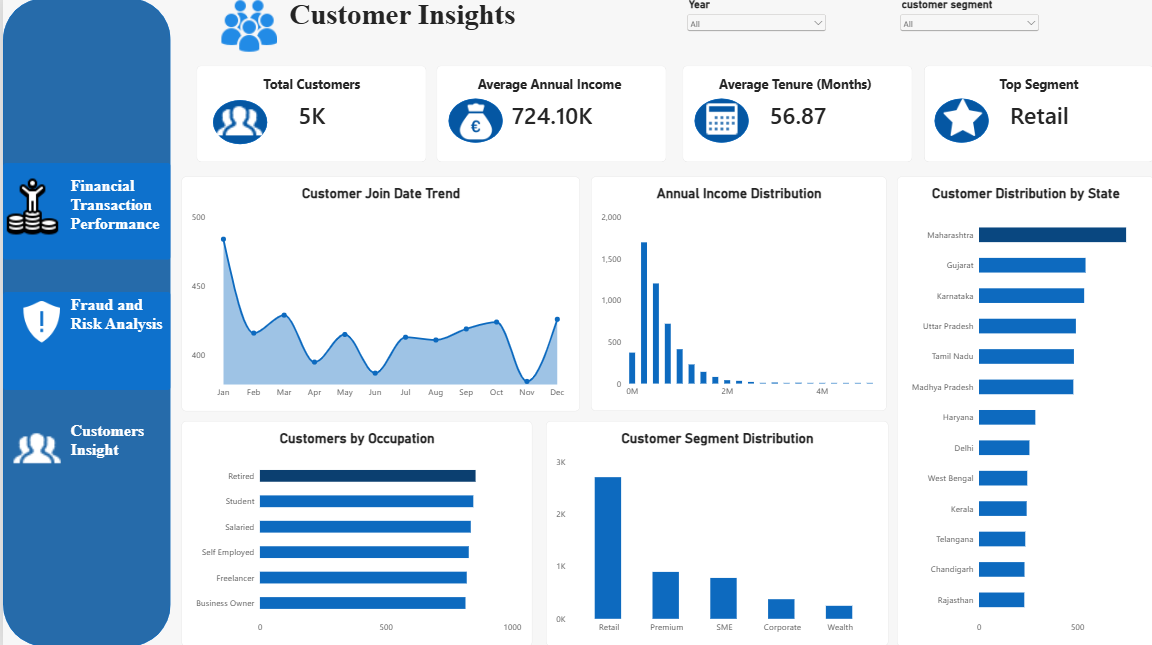

The dashboard page shown, as its layout file describes it:
{"tool":"powerbi","page":{"name":"Customer Insight","canvas":[1920,1080],"ordinal":2},"visuals":[{"type":"shape","box":[0,0,279.3,1080.7],"z":0},{"type":"cardVisual","fields":{"Data":["finance customer_cleaned.Total Customers"]},"box":[321.4,111.9,383.3,161.9],"z":1000},{"type":"cardVisual","fields":{"Data":["finance customer_cleaned.Most Common Segment"]},"box":[1535.7,111.9,383.3,161.9],"z":2000},{"type":"cardVisual","fields":{"Data":["finance customer_cleaned.Average Tenure"]},"box":[1133.3,111.9,383.3,161.9],"z":3000},{"type":"cardVisual","fields":{"Data":["finance customer_cleaned.Average Annual Income"]},"box":[721.4,111.9,383.3,161.9],"z":4000},{"type":"clusteredColumnChart","title":"Annual Income Distribution","fields":{"Category":["finance customer_cleaned.annual_income (bins)"],"Y":["Count(finance customer_cleaned.customer_id)"]},"box":[981,297.6,492.9,390.5],"z":5000},{"type":"clusteredBarChart","title":"Customers by Occupation","fields":{"Category":["finance customer_cleaned.occupation"],"Y":["finance customer_cleaned.Total Customers"]},"box":[296.5,704.7,584.4,376],"z":6000},{"type":"lineChart","title":"Customer Join Date Trend","fields":{"Category":["finance customer_cleaned.Month Short"],"Y":["finance customer_cleaned.Total Customers"]},"box":[296.5,298.7,663.9,391],"z":7000},{"type":"clusteredBarChart","title":"Customer Distribution by State","fields":{"Category":["finance customer_cleaned.state"],"Y":["finance customer_cleaned.Total Customers"]},"box":[1490.5,297.6,428.6,783.3],"z":8000},{"type":"shape","box":[350,169,90.5,73.8],"z":9000},{"type":"shape","box":[1552.3,168.2,90.5,73.8],"z":10000},{"type":"shape","box":[1152.3,168.2,90.5,73.8],"z":11000},{"type":"shape","box":[743.2,168.2,90.5,73.8],"z":12000},{"type":"clusteredColumnChart","title":"Customer Segment Distribution","fields":{"Category":["finance customer_cleaned.customer_segment"],"Y":["finance customer_cleaned.Total Customers"]},"box":[904.5,704.5,570.5,375],"z":13000},{"type":"textbox","box":[478.4,0,805.3,87.6],"z":14000},{"type":"slicer","fields":{"Values":["finance customer_cleaned.join_date.Variation.Date Hierarchy.Year"]},"box":[1134.5,0,241.6,87.6],"z":15000},{"type":"slicer","fields":{"Values":["finance customer_cleaned.customer_segment"]},"box":[1489.8,0,241.6,87.6],"z":16000},{"type":"textbox","box":[350.5,127.9,329.2,40.3],"z":17000},{"type":"textbox","box":[743.7,127.9,336.3,40.3],"z":18000},{"type":"textbox","box":[1153.4,127.9,336.3,40.3],"z":19000},{"type":"textbox","box":[1551.3,127.9,348.2,40.3],"z":20000},{"type":"actionButton","box":[0,274.4,279.3,161.1],"z":21000},{"type":"actionButton","box":[0,698.3,279.3,141.8],"z":22000},{"type":"actionButton","box":[0,489.9,279.3,163.3],"z":23000},{"type":"textbox","box":[112.1,298.2,167,100.2],"z":24000},{"type":"textbox","box":[112.1,493.9,167,78.7],"z":25000},{"type":"textbox","box":[112.1,703.8,167,88.3],"z":26000},{"type":"image","box":[338.8,0,140.8,93.1],"z":26001},{"type":"image","box":[348.3,164.6,93.1,76.3],"z":26002},{"type":"image","box":[744.4,169.4,88.3,71.6],"z":26003},{"type":"image","box":[1161.9,159.9,71.6,83.5],"z":26004},{"type":"image","box":[1538.9,164.6,119.3,69.2],"z":26005},{"type":"image","box":[16.7,706.2,78.7,88.3],"z":26006},{"type":"image","box":[2.4,298.2,93.1,100.2],"z":26010},{"type":"image","box":[21.5,505.8,83.5,69.2],"z":26011}]}

Visuals, with their boxes on the page's 1920x1080 design canvas (x1, y1, x2, y2). These are canvas units, not pixel positions in the 1152x645 screenshot, which may show the page scaled, cropped or inside an application window:
shape: bbox=(0, 0, 279, 1081)
cardVisual - finance customer_cleaned.Total Customers: bbox=(321, 112, 705, 274)
cardVisual - finance customer_cleaned.Most Common Segment: bbox=(1536, 112, 1919, 274)
cardVisual - finance customer_cleaned.Average Tenure: bbox=(1133, 112, 1517, 274)
cardVisual - finance customer_cleaned.Average Annual Income: bbox=(721, 112, 1105, 274)
"Annual Income Distribution" clusteredColumnChart: bbox=(981, 298, 1474, 688)
"Customers by Occupation" clusteredBarChart: bbox=(296, 705, 881, 1081)
"Customer Join Date Trend" lineChart: bbox=(296, 299, 960, 690)
"Customer Distribution by State" clusteredBarChart: bbox=(1490, 298, 1919, 1081)
shape: bbox=(350, 169, 440, 243)
shape: bbox=(1552, 168, 1643, 242)
shape: bbox=(1152, 168, 1243, 242)
shape: bbox=(743, 168, 834, 242)
"Customer Segment Distribution" clusteredColumnChart: bbox=(904, 704, 1475, 1080)
textbox: bbox=(478, 0, 1284, 88)
slicer - finance customer_cleaned.join_date.Variation.Date Hierarchy.Year: bbox=(1134, 0, 1376, 88)
slicer - finance customer_cleaned.customer_segment: bbox=(1490, 0, 1731, 88)
textbox: bbox=(350, 128, 680, 168)
textbox: bbox=(744, 128, 1080, 168)
textbox: bbox=(1153, 128, 1490, 168)
textbox: bbox=(1551, 128, 1900, 168)
actionButton: bbox=(0, 274, 279, 436)
actionButton: bbox=(0, 698, 279, 840)
actionButton: bbox=(0, 490, 279, 653)
textbox: bbox=(112, 298, 279, 398)
textbox: bbox=(112, 494, 279, 573)
textbox: bbox=(112, 704, 279, 792)
image: bbox=(339, 0, 480, 93)
image: bbox=(348, 165, 441, 241)
image: bbox=(744, 169, 833, 241)
image: bbox=(1162, 160, 1234, 243)
image: bbox=(1539, 165, 1658, 234)
image: bbox=(17, 706, 95, 794)
image: bbox=(2, 298, 96, 398)
image: bbox=(22, 506, 105, 575)
